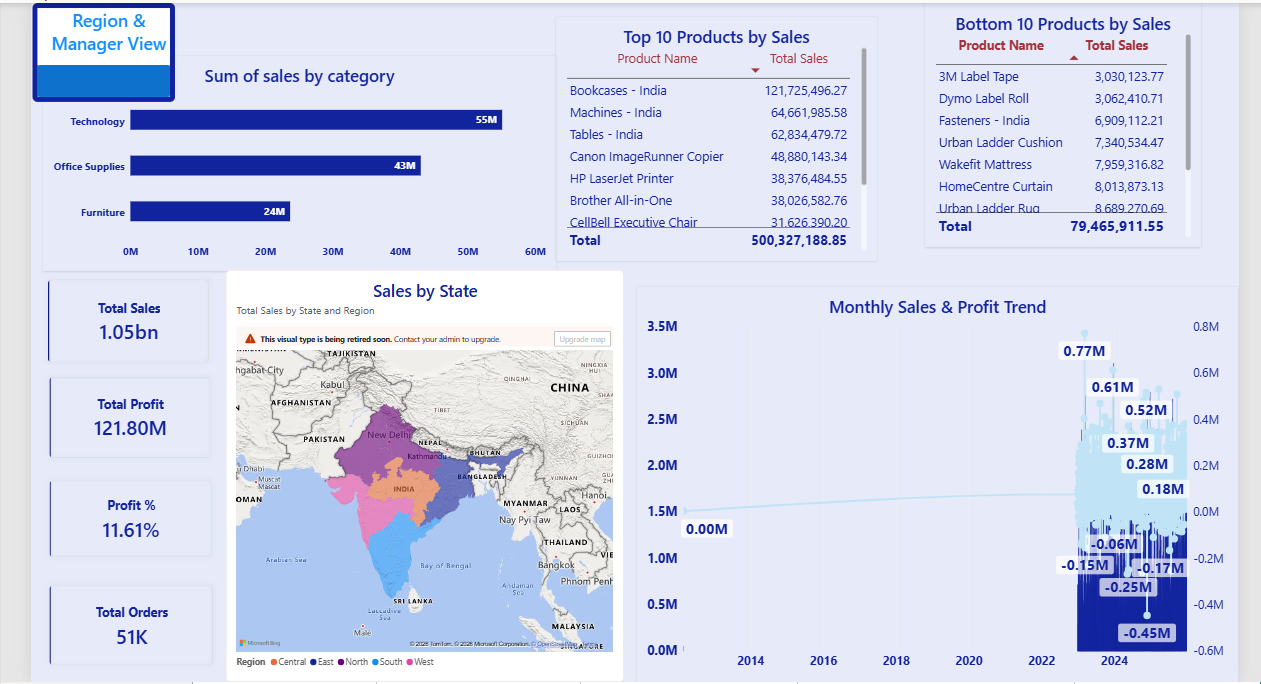

The page's visual inventory and layout, read from the dashboard file:
{"tool":"powerbi","page":{"name":"Sales Overview","canvas":[1920,1080],"ordinal":0},"visuals":[{"type":"barChart","title":"Sum of sales by category","fields":{"Category":["Orders.Category","Orders.Sub-Category"],"Series":["Orders.Category"],"Y":["Orders.Total Profit"]},"box":[19.1,83.5,816,343.6],"z":0},{"type":"cardVisual","fields":{"Data":["Orders.Total Sales"]},"box":[0,412.8,310.2,186.1],"z":1000},{"type":"cardVisual","fields":{"Data":["Orders.Total Profit"]},"box":[2.4,567.8,310.2,183.7],"z":2000},{"type":"cardVisual","fields":{"Data":["Orders.Profit %"]},"box":[2.4,732.5,312.6,176.6],"z":3000},{"type":"cardVisual","fields":{"Data":["Orders.Total Orders"]},"box":[2.4,899.5,314.9,181.3],"z":4000},{"type":"lineStackedColumnComboChart","title":"Monthly Sales & Profit Trend","fields":{"Category":["DateTable.Date"],"Y":["Orders.Total Sales"],"Y2":["Orders.Total Profit"]},"box":[963.9,450.9,956.8,629.9],"z":5000},{"type":"tableEx","title":"Top 10 Products by Sales","fields":{"Values":["Orders.Product Name","Orders.Total Sales"]},"box":[835.1,21.5,510.6,388.9],"z":6000},{"type":"tableEx","title":"Bottom 10 Products by Sales","fields":{"Values":["Orders.Product Name","Orders.Total Sales"]},"box":[1422,0,439,388.9],"z":7000},{"type":"filledMap","title":"Sales by State","fields":{"Category":["Orders.State"],"Series":["Orders.Region"]},"box":[310,425,632.5,655],"z":8000},{"type":"actionButton","title":"Region & Manager View","box":[2.4,0,226.7,157.5],"z":9000}]}

Visuals, with their boxes on the page's 1920x1080 design canvas (x1, y1, x2, y2). These are canvas units, not pixel positions in the 1261x684 screenshot, which may show the page scaled, cropped or inside an application window:
"Sum of sales by category" barChart: select_region(19, 84, 835, 427)
cardVisual - Orders.Total Sales: select_region(0, 413, 310, 599)
cardVisual - Orders.Total Profit: select_region(2, 568, 313, 752)
cardVisual - Orders.Profit %: select_region(2, 732, 315, 909)
cardVisual - Orders.Total Orders: select_region(2, 900, 317, 1081)
"Monthly Sales & Profit Trend" lineStackedColumnComboChart: select_region(964, 451, 1921, 1081)
"Top 10 Products by Sales" tableEx: select_region(835, 22, 1346, 410)
"Bottom 10 Products by Sales" tableEx: select_region(1422, 0, 1861, 389)
"Sales by State" filledMap: select_region(310, 425, 942, 1080)
"Region & Manager View" actionButton: select_region(2, 0, 229, 158)
